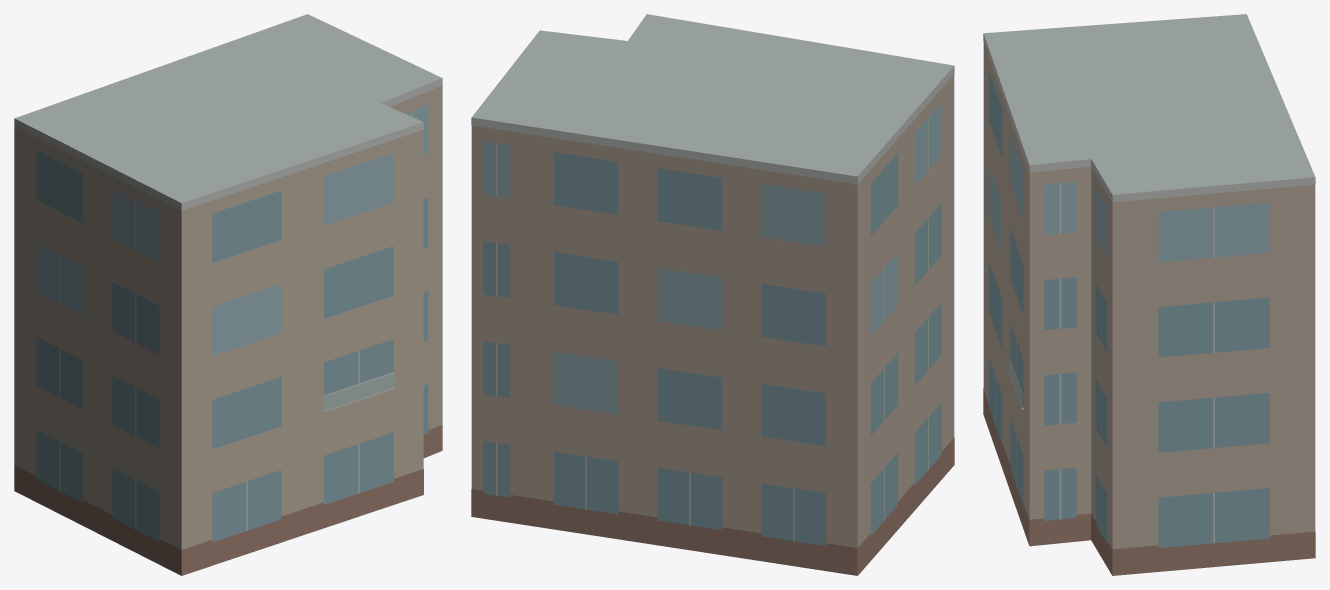
Rendered from survey-upis-32621291.glb.
3 views of the same model, side by side, from view 1: azimuth 30°, elevation 25°; view 2: azimuth 150°, elevation 25°; view 3: azimuth 270°, elevation 25° (orthographic). The views are drawn at different scales.
Parts seen in each view (by area): view 1: survey-upis-32621291.tmp; view 2: survey-upis-32621291.tmp; view 3: survey-upis-32621291.tmp.
Part boxes in pixels (x1=…): survey-upis-32621291.tmp: x1=14, y1=14, x2=442, y2=575; survey-upis-32621291.tmp: x1=471, y1=14, x2=954, y2=575; survey-upis-32621291.tmp: x1=983, y1=14, x2=1315, y2=575.
Bounding box in the file's own units: 12.53 × 12.3 × 9.72.
